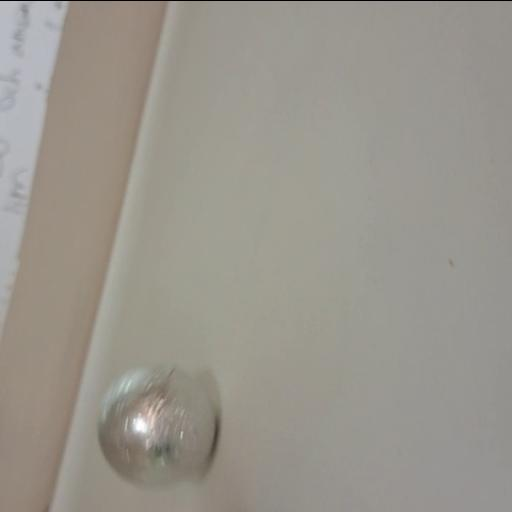alive: (96, 361, 218, 482)
